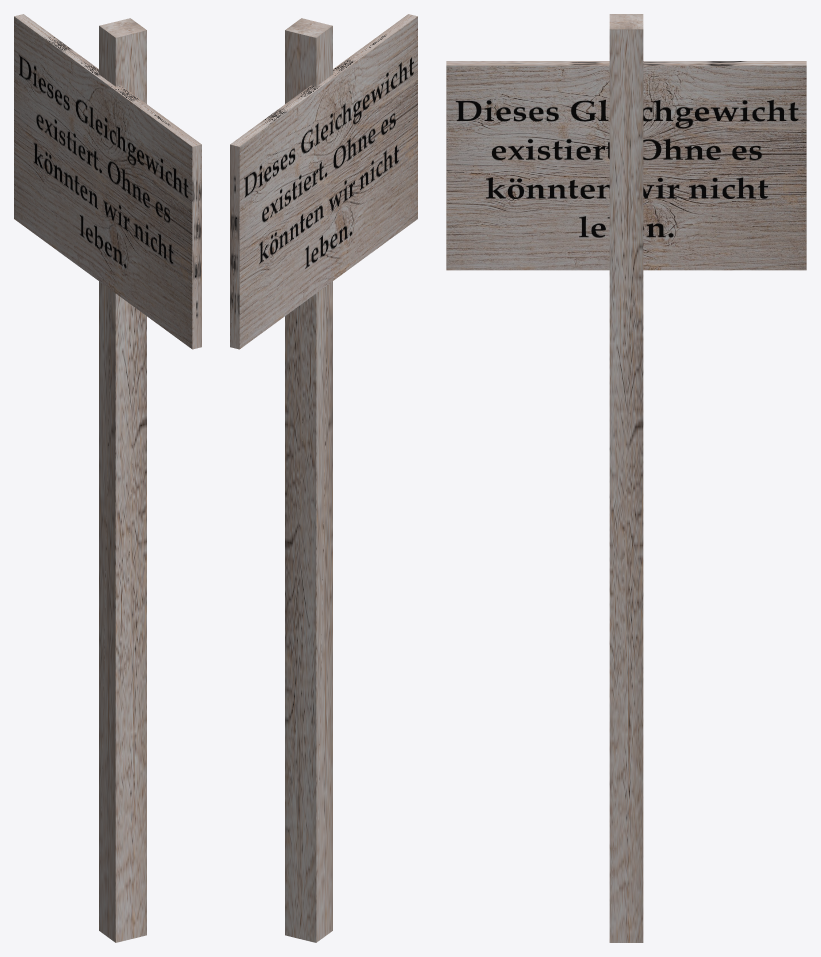
File: Schild Scheune5.fbx
The picture shows the model from 3 angles, left to right: view 1: azimuth 30°, elevation 25°; view 2: azimuth 150°, elevation 25°; view 3: azimuth 270°, elevation 25°; orthographic projection.
Visible parts, largest first — view 1: Cube__1_, Cube; view 2: Cube__1_, Cube; view 3: Cube__1_, Cube.
Part boxes in pixels (x1=…): Cube__1_: x1=14, y1=14, x2=201, y2=349; Cube: x1=99, y1=18, x2=146, y2=942; Cube__1_: x1=230, y1=14, x2=417, y2=349; Cube: x1=285, y1=18, x2=332, y2=942; Cube__1_: x1=446, y1=61, x2=806, y2=270; Cube: x1=609, y1=14, x2=643, y2=942.
Bounding box in the file's own units: 12.87 × 313 × 112.
